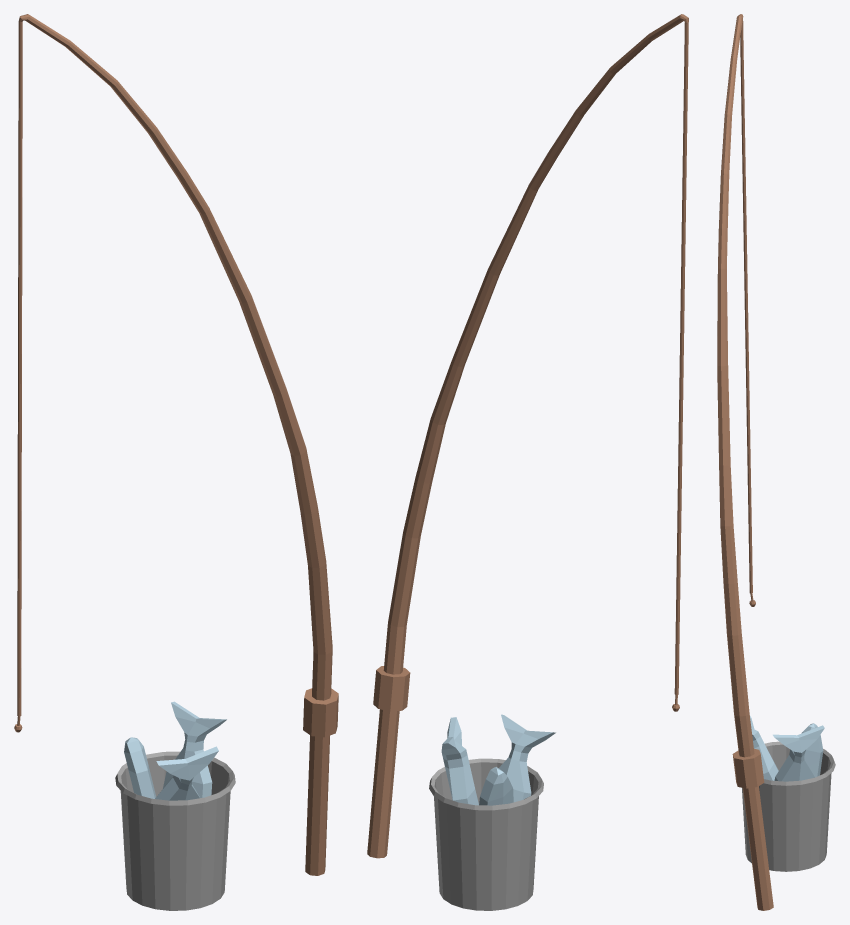
File: FiskeStang.glb
3 views of the same model, side by side, from view 1: azimuth 30°, elevation 25°; view 2: azimuth 150°, elevation 25°; view 3: azimuth 270°, elevation 25° (orthographic). The views are drawn at different scales.
Visible parts, largest first — view 1: FiskeStang; view 2: FiskeStang; view 3: FiskeStang.
Part boxes in pixels (box(x1,y1,x2,y2)): FiskeStang: box(14, 14, 338, 910); FiskeStang: box(367, 14, 688, 910); FiskeStang: box(717, 14, 835, 910).
Bounding box in the file's own units: 2.23 × 6.25 × 0.8695.
